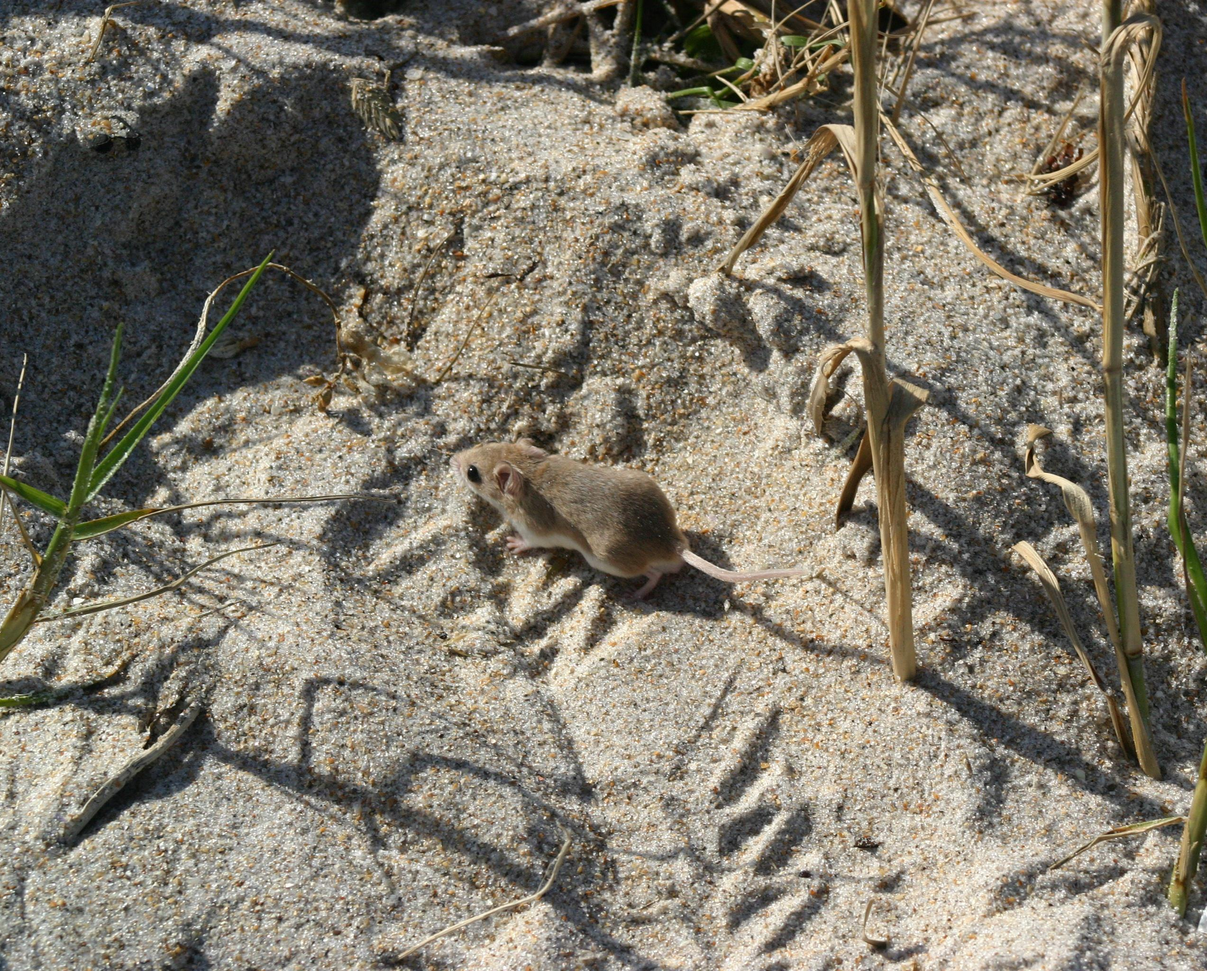rat: (460, 438, 811, 596)
